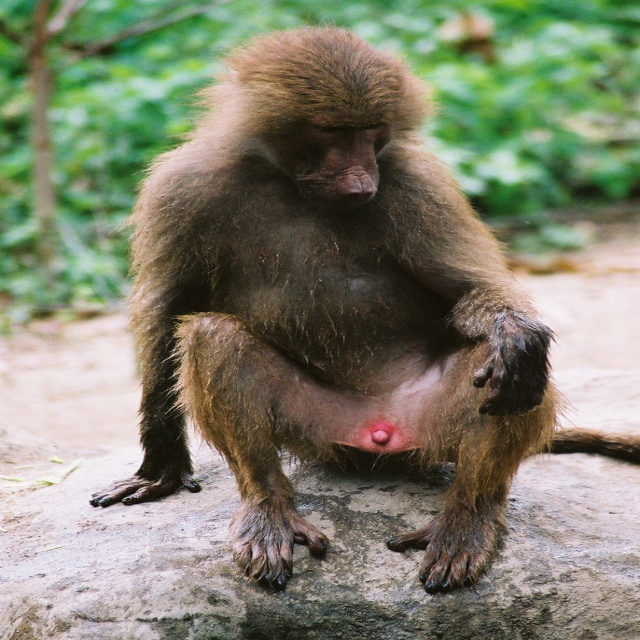Monkey: (88, 23, 639, 591)
